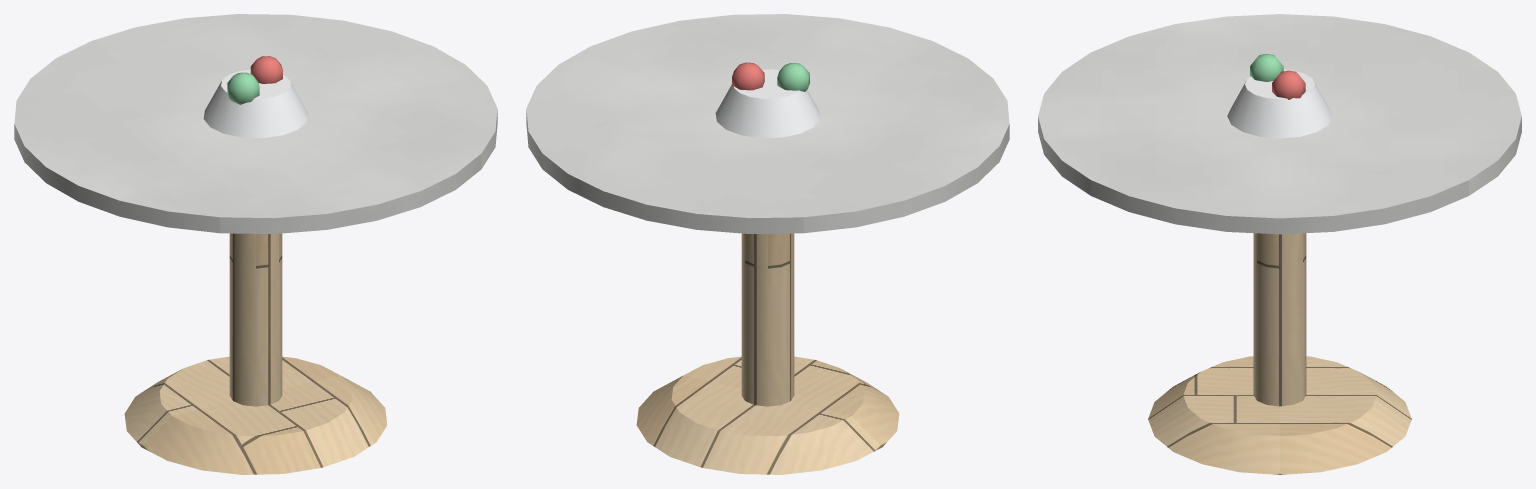
3 renders of one model, left to right at view 1: azimuth 30°, elevation 25°; view 2: azimuth 150°, elevation 25°; view 3: azimuth 270°, elevation 25°, orthographic.
Parts seen in each view (by area): view 1: Decor_round_dining_table; view 2: Decor_round_dining_table; view 3: Decor_round_dining_table.
Part boxes in pixels (x1=…): Decor_round_dining_table: x1=14, y1=14, x2=497, y2=474; Decor_round_dining_table: x1=526, y1=14, x2=1009, y2=474; Decor_round_dining_table: x1=1038, y1=14, x2=1521, y2=474.
Bounding box in the file's own units: 1.1 × 0.89 × 1.1.
5 materials, 2 textured.
